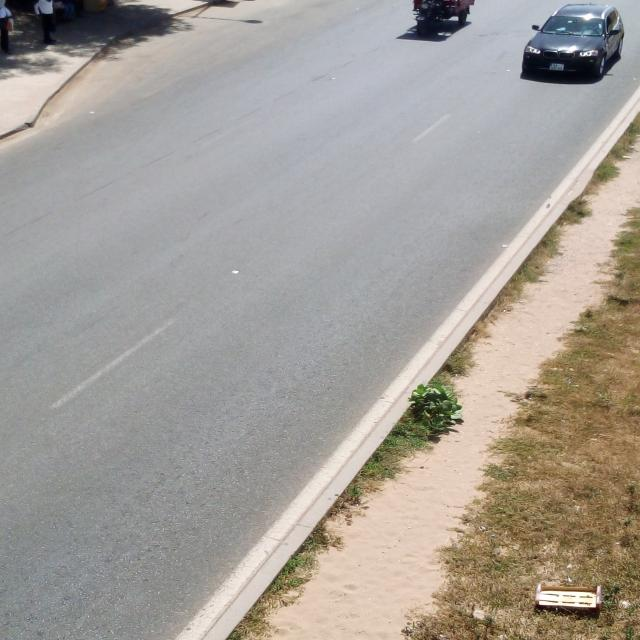moto tricycle: (414, 1, 476, 36)
particulier: (523, 5, 626, 79)
